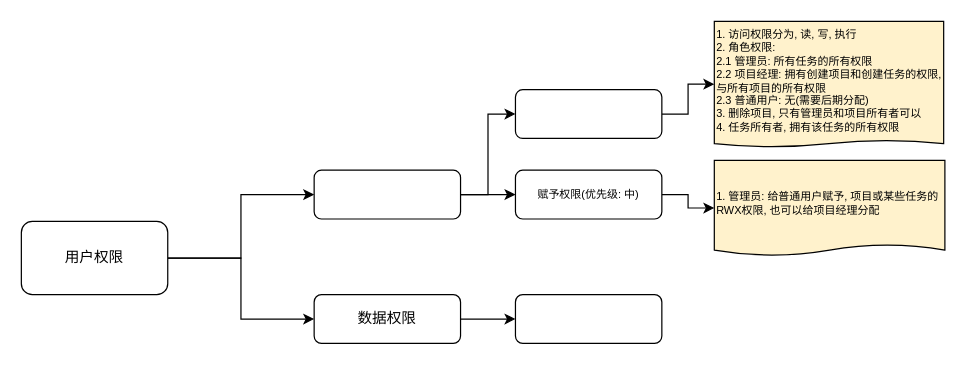
Some shapes in this 966 by 365 pixel diagram are drawn without their labels. The centre of each missing label's shape, as x and y in pixels:
"角色权限(优先级: 高)" belongs at (588,113).
"访问权限" belongs at (387,194).
"读写权限" belongs at (588,318).
